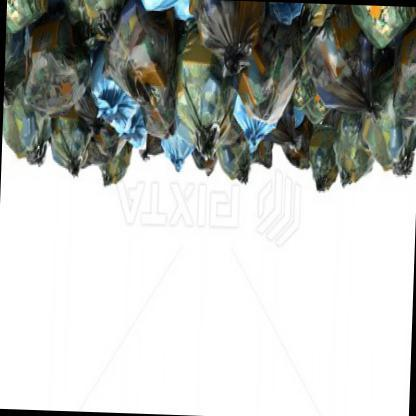Garbage: (3, 0, 398, 149), (90, 0, 255, 189), (1, 0, 125, 188), (222, 2, 344, 188), (308, 5, 415, 187)
